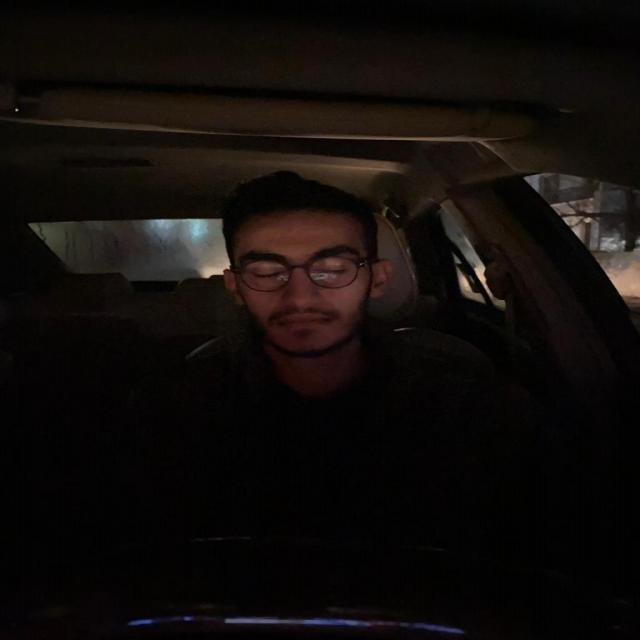drowsy: (213, 191, 400, 362)
